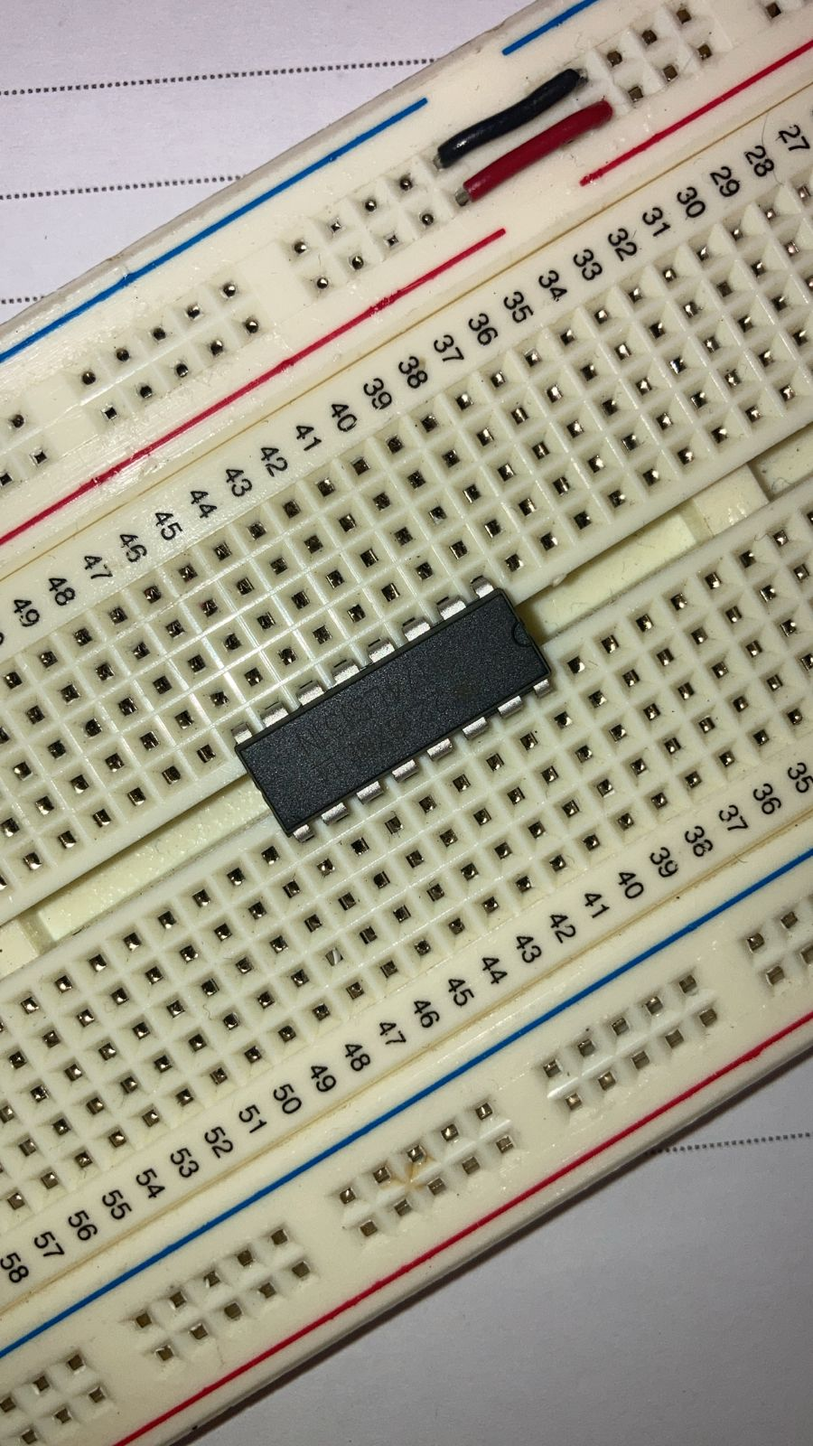IC: (224, 569, 566, 853)
notch: (509, 613, 542, 656)
